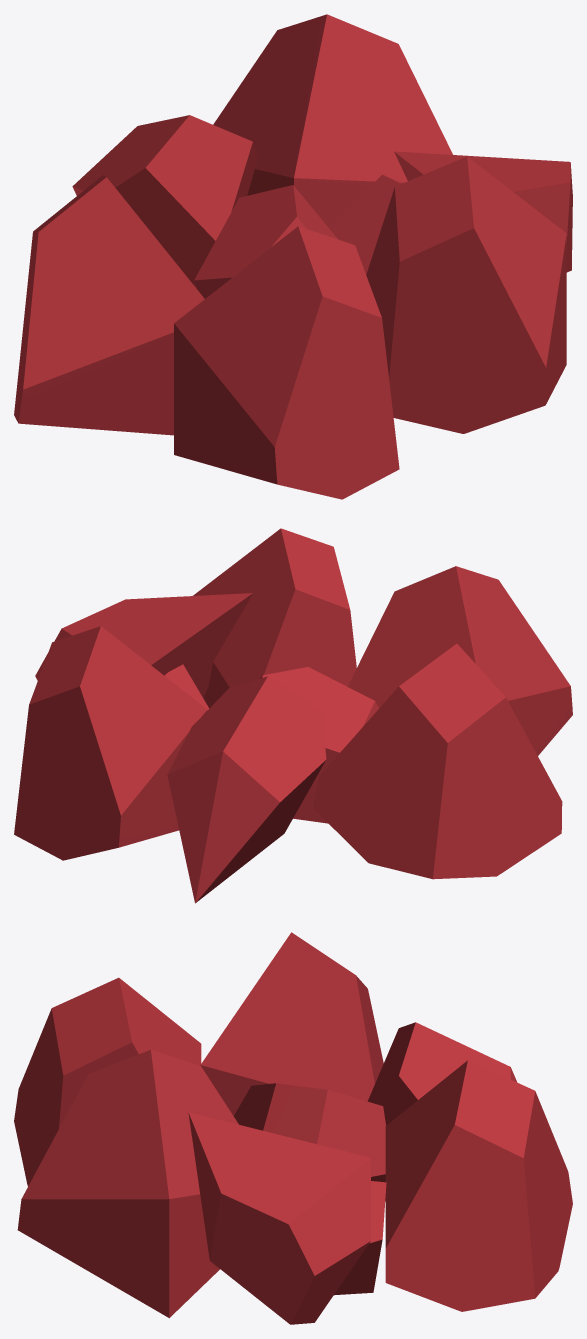
Rendered from Pebbles.glb.
The picture shows the model from 3 angles, top to bottom: view 1: azimuth 30°, elevation 25°; view 2: azimuth 150°, elevation 25°; view 3: azimuth 270°, elevation 25°; orthographic projection. The views are drawn at different scales.
Parts seen in each view (by area): view 1: Cube_cell.002, Cube_cell.006, Cube_cell.004, Cube_cell, Cube_cell.014, Cube_cell.017, Cube_cell.008, Cube_cell.025; view 2: Cube_cell.004, Cube_cell, Cube_cell.014, Cube_cell.002, Cube_cell.006, Cube_cell.008, Cube_cell.017, Cube_cell.025; view 3: Cube_cell, Cube_cell.006, Cube_cell.008, Cube_cell.004, Cube_cell.002, Cube_cell.017, Cube_cell.014, Cube_cell.025.
Part boxes in pixels (<box>): Cube_cell.002: <box>174,226,399,499</box>; Cube_cell.006: <box>366,156,566,433</box>; Cube_cell.004: <box>14,175,204,435</box>; Cube_cell: <box>213,14,452,231</box>; Cube_cell.014: <box>72,115,257,285</box>; Cube_cell.017: <box>194,185,337,298</box>; Cube_cell.008: <box>394,151,572,272</box>; Cube_cell.025: <box>331,174,401,274</box>; Cube_cell.004: <box>312,643,562,879</box>; Cube_cell: <box>14,626,207,860</box>; Cube_cell.014: <box>167,676,326,903</box>; Cube_cell.002: <box>348,566,572,755</box>; Cube_cell.006: <box>193,528,356,708</box>; Cube_cell.008: <box>35,593,252,697</box>; Cube_cell.017: <box>260,667,379,823</box>; Cube_cell.025: <box>164,664,209,710</box>; Cube_cell: <box>385,1060,572,1311</box>; Cube_cell.006: <box>17,1050,238,1318</box>; Cube_cell.008: <box>188,1112,370,1324</box>; Cube_cell.004: <box>200,932,383,1115</box>; Cube_cell.002: <box>14,977,201,1186</box>; Cube_cell.017: <box>233,1083,385,1182</box>; Cube_cell.014: <box>367,1022,517,1200</box>; Cube_cell.025: <box>334,1181,386,1295</box>.
Size of the model in its own units: 2.01 by 0.878 by 1.84.
